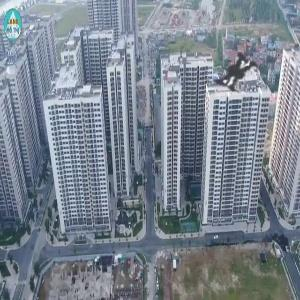drone: (178, 15, 290, 127)
